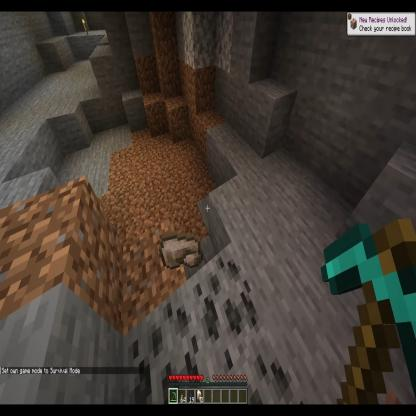coal ore: (187, 245, 264, 369), (119, 284, 196, 404), (204, 334, 311, 404)
